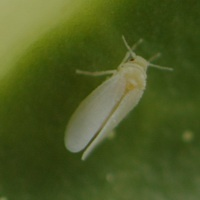insect: (65, 36, 172, 159)
